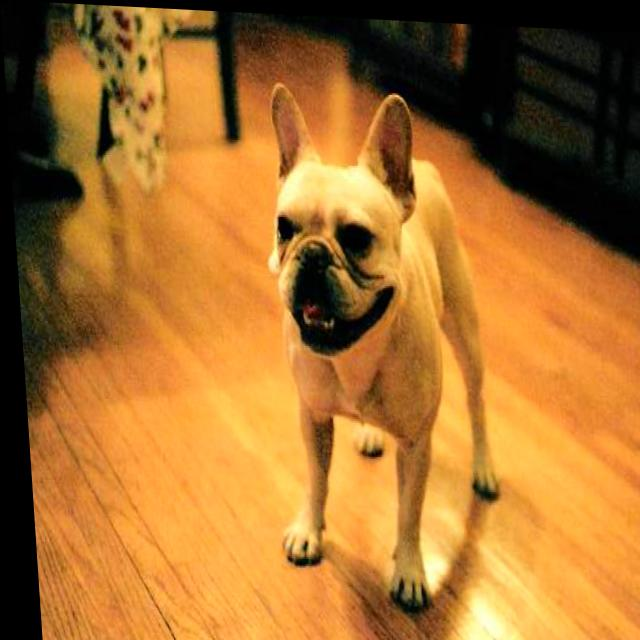buldog: (242, 119, 431, 361)
